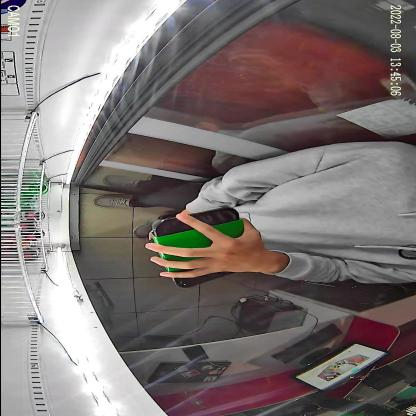green: (148, 207, 244, 288)
